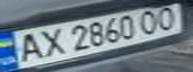0: (118, 12, 139, 41)
2: (66, 21, 90, 52)
6: (103, 16, 124, 44)
8: (84, 18, 109, 48)
A: (9, 30, 45, 64)
O: (133, 8, 166, 35), (151, 6, 184, 31)
X: (33, 25, 69, 58)
